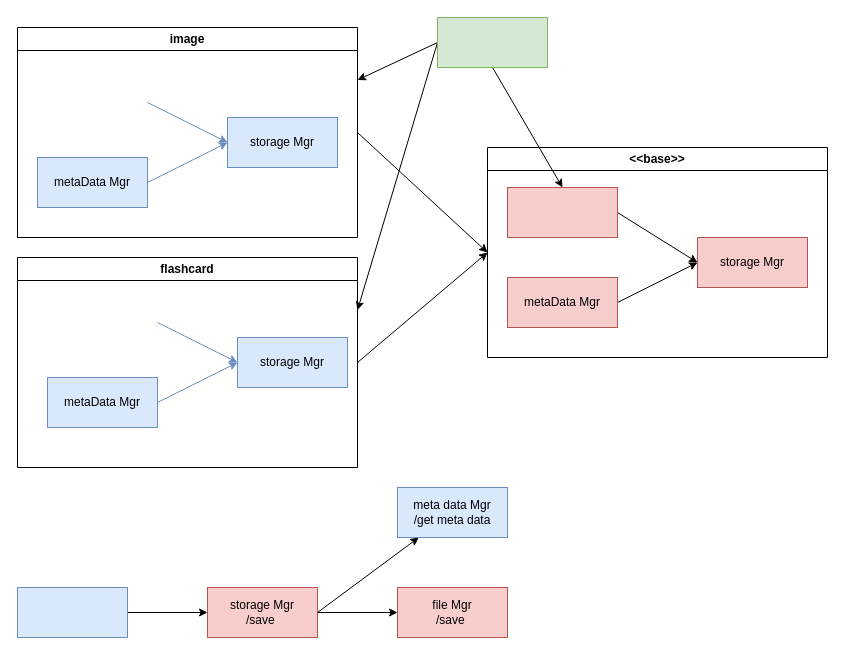
Image size: 845x655. Some labels were removed from this diagram. The shapes that lost their labels are listed below. From the top down, each one's centre as x and y in pixels, then its label:
At [492,42]: "StorageMGR".
At [562,212]: "file Mgr".
At [72,612]: "storage Mgr /save file".
